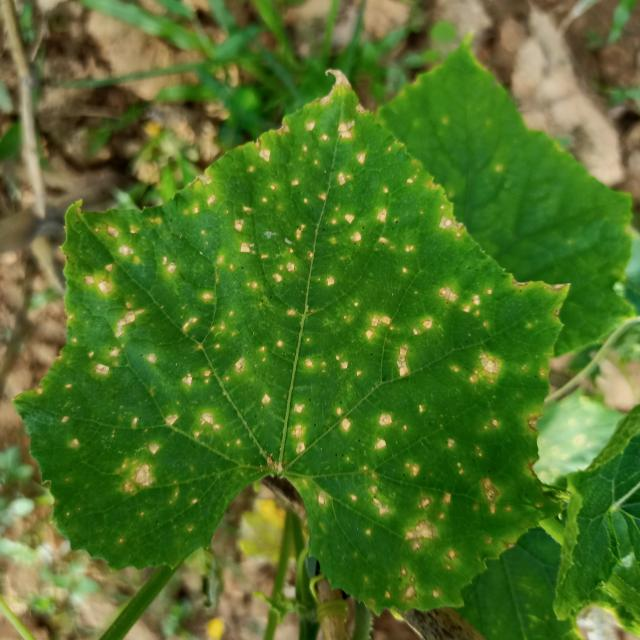disease_cucumber: (91, 118, 508, 390), (294, 308, 540, 604), (34, 270, 310, 520)
